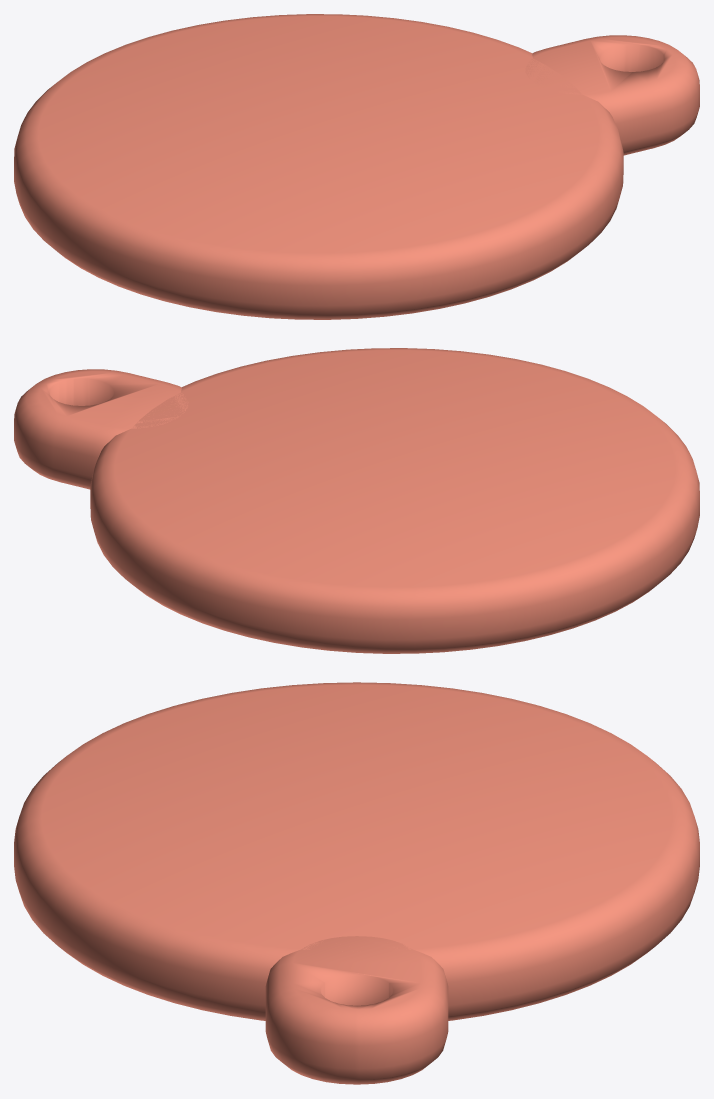
File: board_c.glb
3 renders of one model, top to bottom at view 1: azimuth 30°, elevation 25°; view 2: azimuth 150°, elevation 25°; view 3: azimuth 270°, elevation 25°, orthographic. The views are drawn at different scales.
Parts seen in each view (by area): view 1: body; view 2: body; view 3: body.
Part boxes in pixels (bbox=[...]): body: bbox=[14, 14, 699, 319]; body: bbox=[14, 348, 699, 653]; body: bbox=[14, 682, 699, 1084].
Size of the model in its own units: 0.36 by 0.035 by 0.3.
